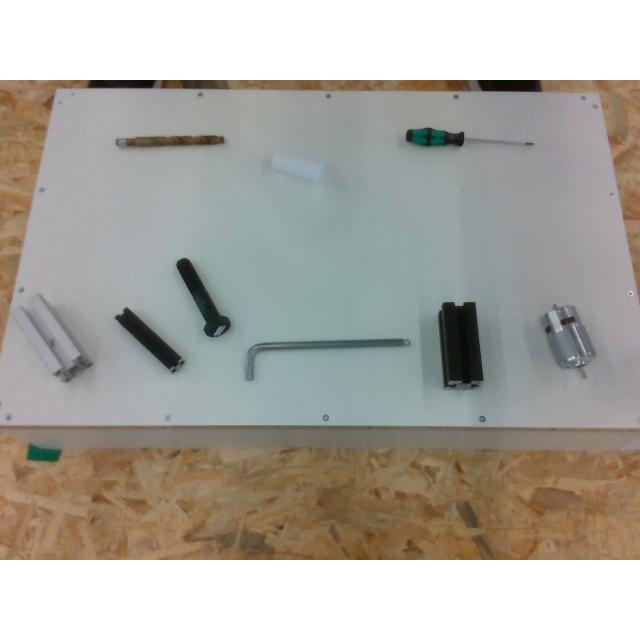AllenKey: (245, 338, 410, 380)
Drill: (116, 135, 224, 147)
F20_20_B: (116, 306, 184, 374)
M20_100: (178, 258, 230, 336)
Motor2: (544, 303, 596, 379)
S40_40_B: (439, 302, 483, 386)
S40_40_G: (14, 293, 90, 381)
Screwdriver: (403, 126, 532, 146)
Spacer: (271, 151, 327, 183)
